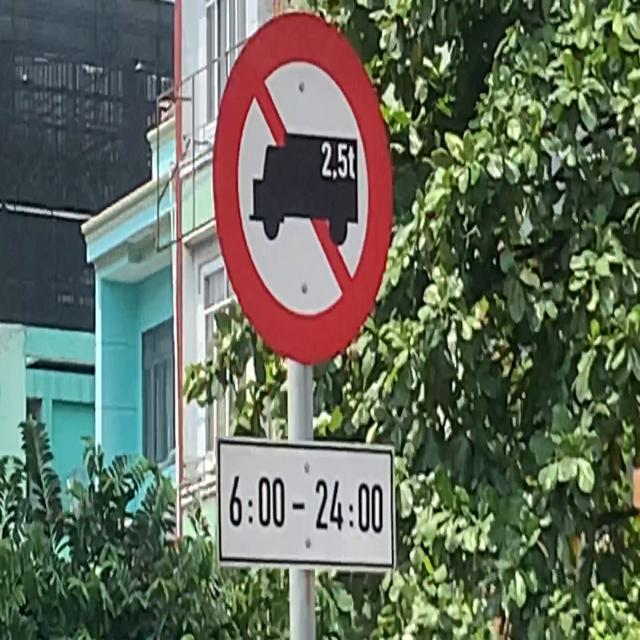Cam con lai: (209, 3, 398, 380)
